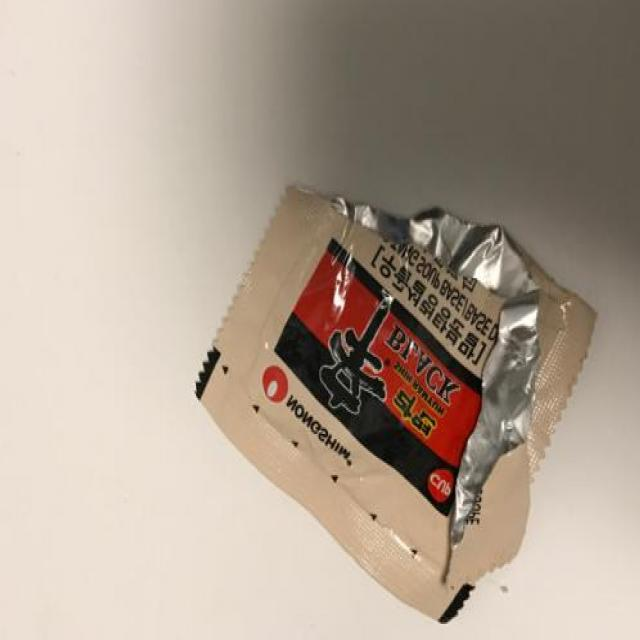wrapper: (196, 188, 597, 623)
